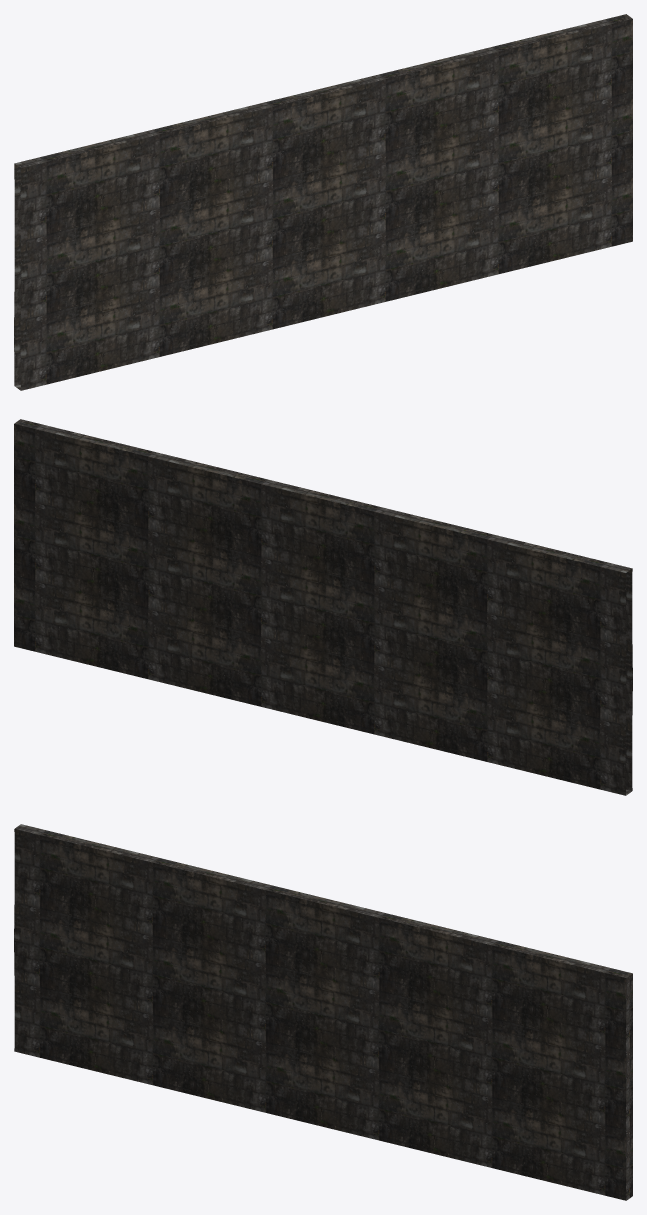
File: HalfWall.fbx
The picture shows the model from 3 angles, top to bottom: view 1: azimuth 30°, elevation 25°; view 2: azimuth 150°, elevation 25°; view 3: azimuth 330°, elevation 25°; orthographic projection.
Visible parts, largest first — view 1: Wall; view 2: Wall; view 3: Wall.
Part boxes in pixels (box(x1,y1,x2,y2)): Wall: box(14, 14, 632, 390); Wall: box(14, 419, 632, 795); Wall: box(14, 824, 632, 1200).
Size of the model in its own units: 1083 by 377 by 22.97.
1 material, 1 textured.
